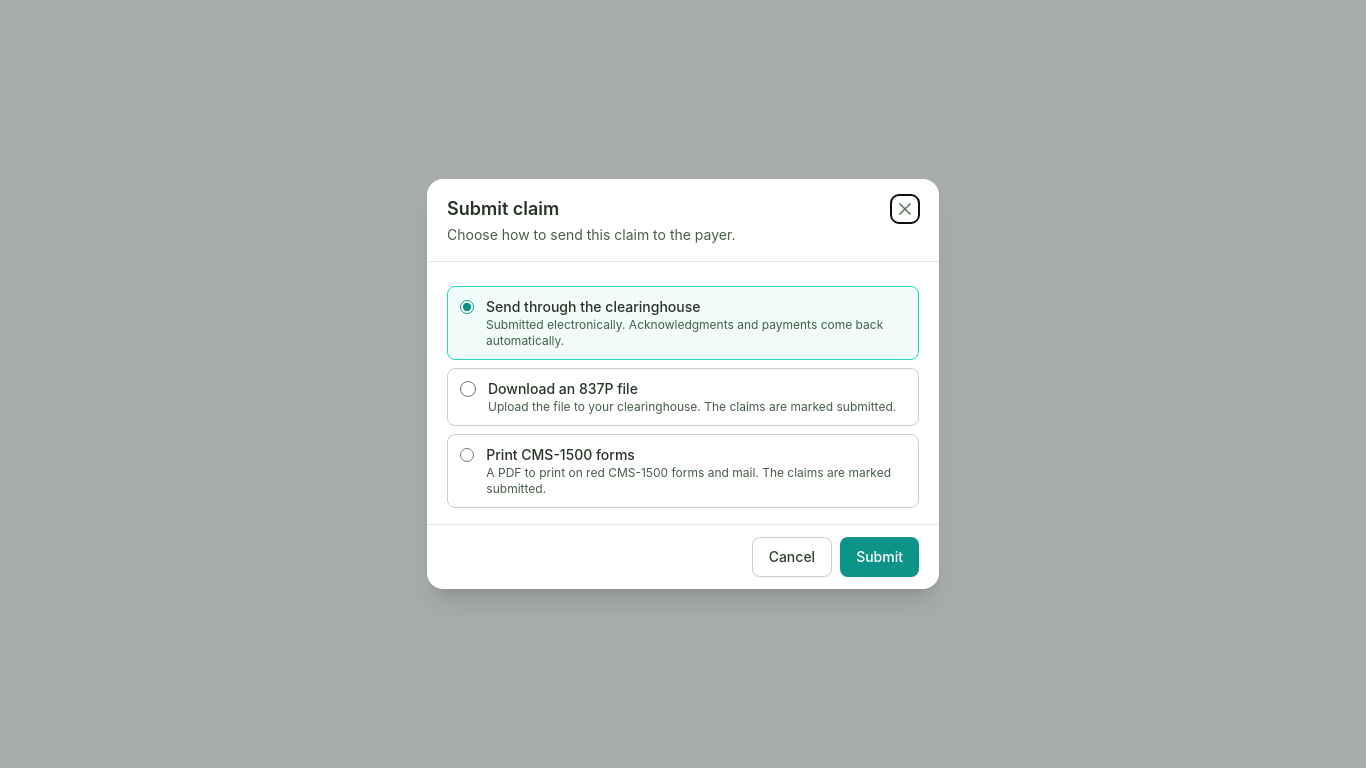
Test: submitting claims › downloads an 837P file when chosen
Step 1. Click the radio button labelled "Download an 837P file" → (468,389), box left=460, top=381, right=476, bottom=397
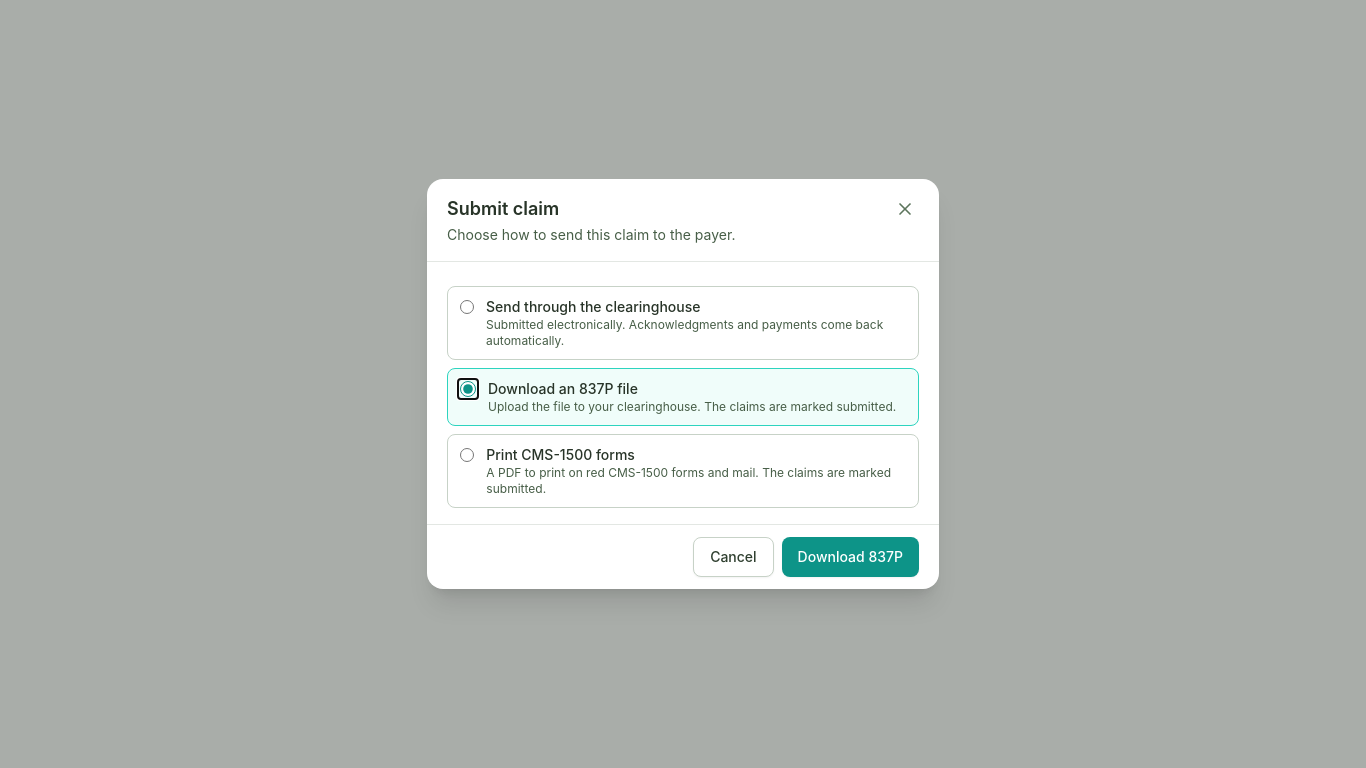
Step 2. Click the button "Download 837P" → (850,557), box left=782, top=537, right=919, bottom=577
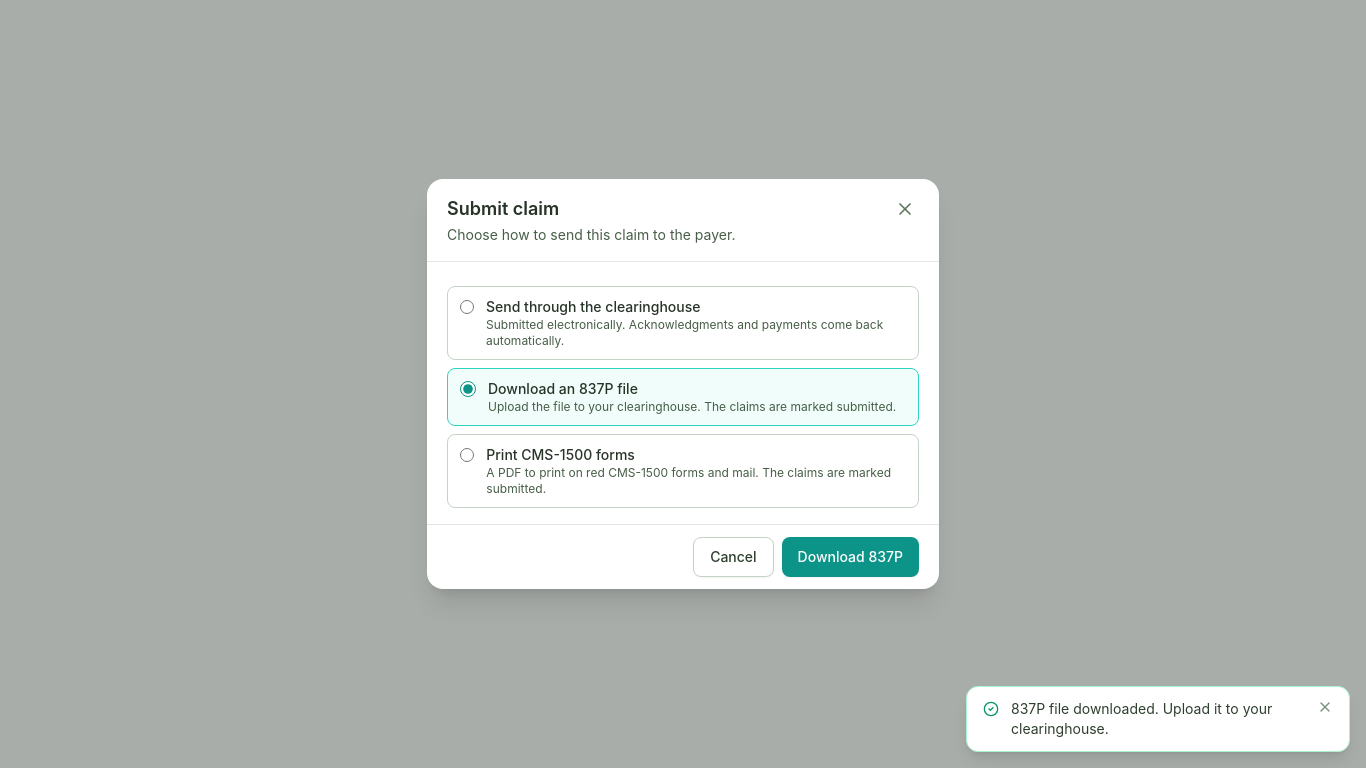
Result: the text "837P file downloaded. Upload it to your clearinghouse." is shown at left=1011, top=699, right=1305, bottom=739
